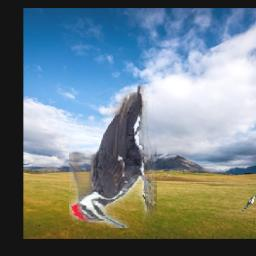Cuckoo: (240, 195, 256, 213)
Woodpecker: (69, 86, 157, 229)
